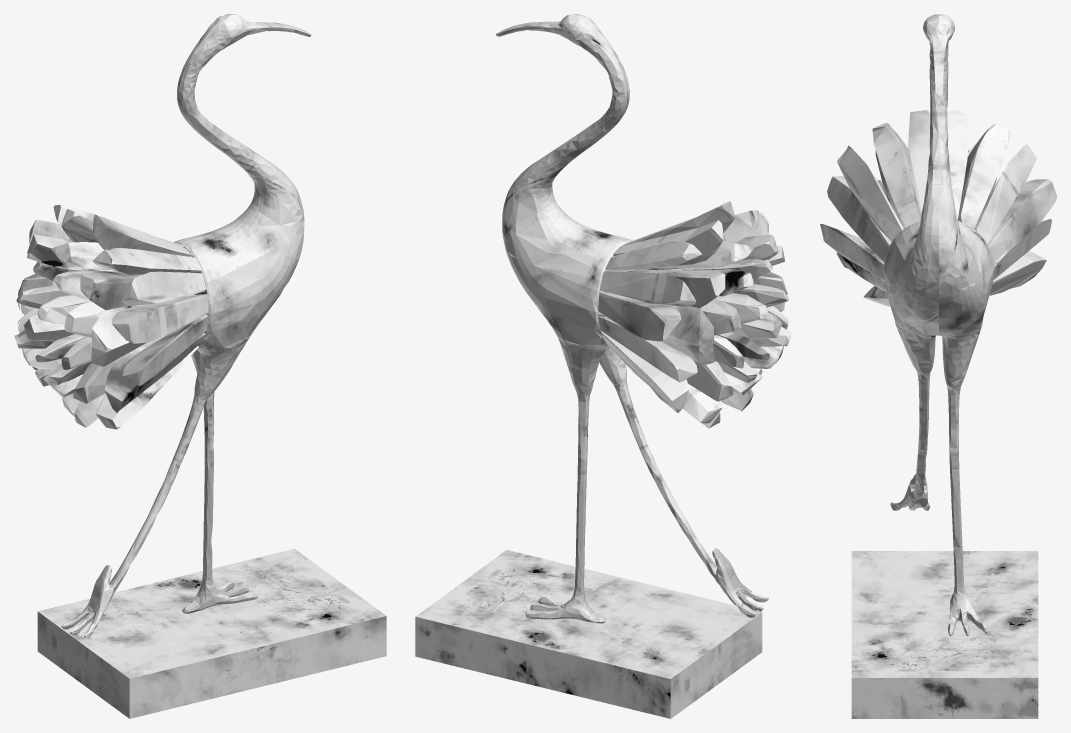
Rendered from P_DecoB.obj.
3 views of the same model, side by side, from view 1: azimuth 30°, elevation 25°; view 2: azimuth 150°, elevation 25°; view 3: azimuth 270°, elevation 25° (orthographic). The views are drawn at different scales.
Size of the model in its own units: 1.04 by 2 by 0.6637.
1 material, 1 textured.
